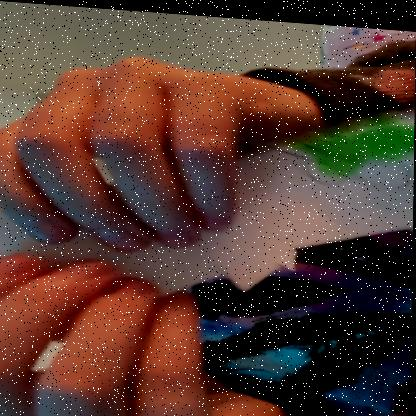streamer: (0, 7, 416, 416)
